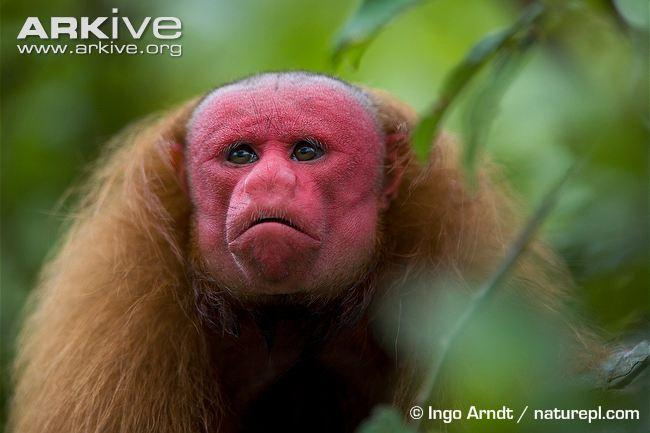monkey: (13, 73, 571, 433)
